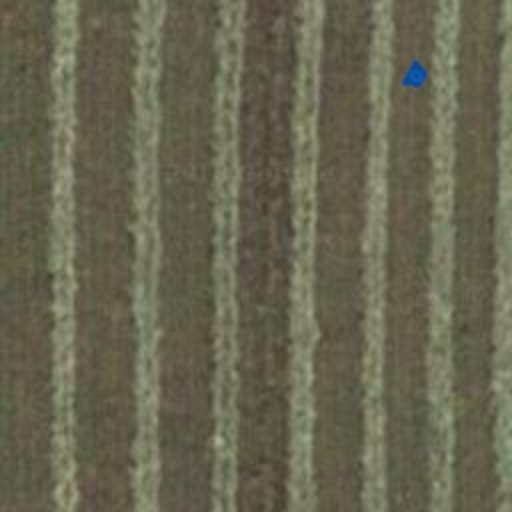trapezoid: (394, 54, 438, 98)
